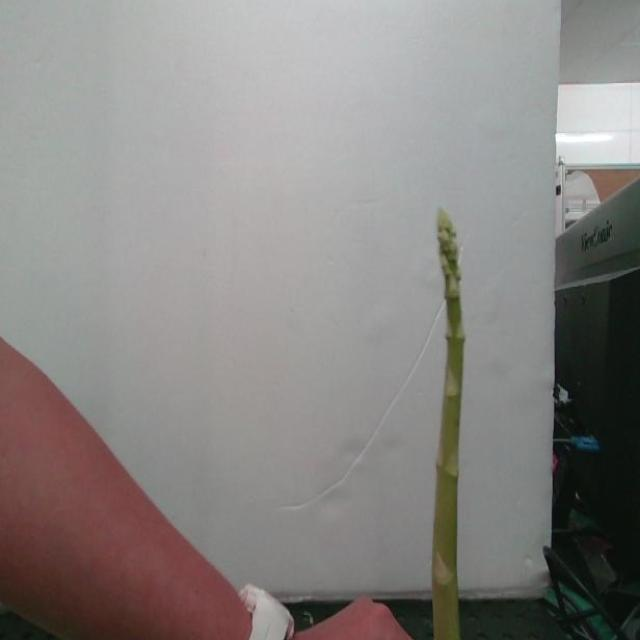aspargus: (433, 211, 467, 640)
